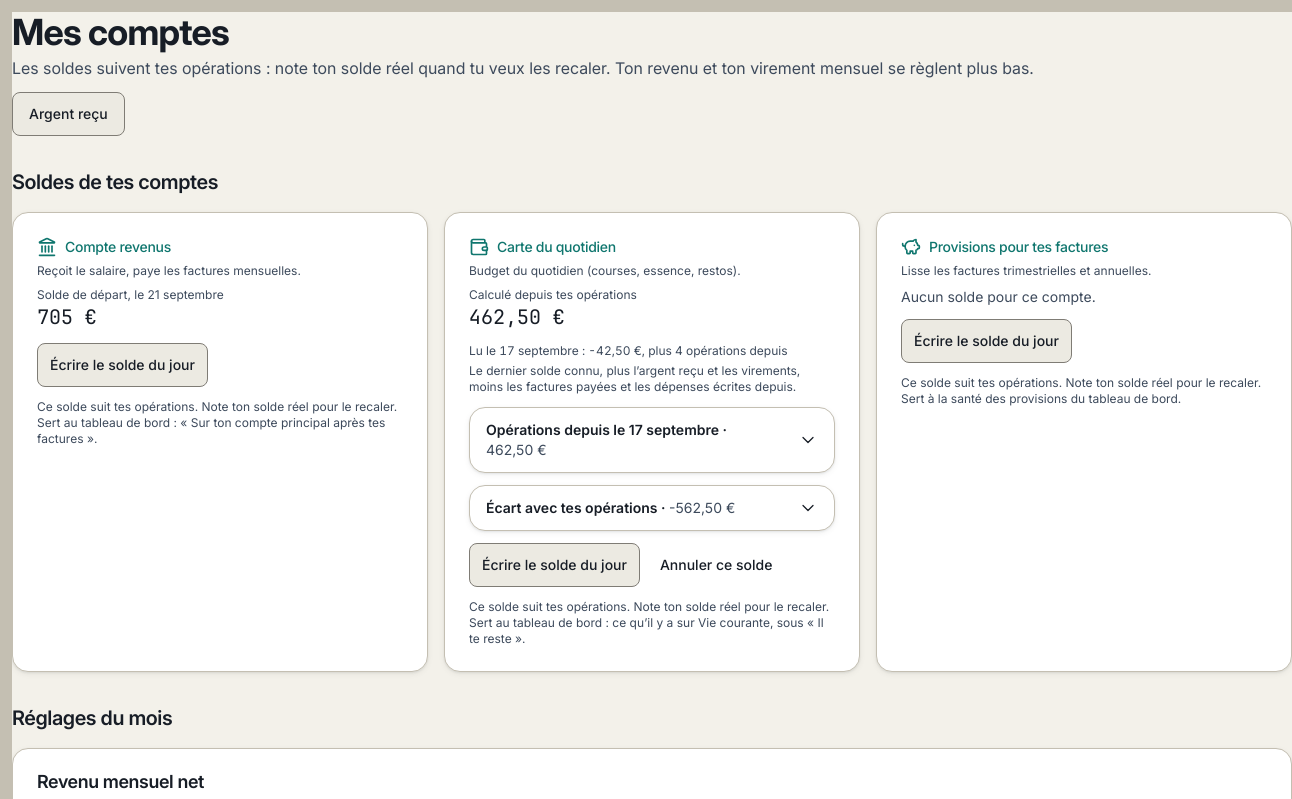
Scenario: AccountsClient — un solde lu, daté, et nommé pour ce qu’il est › tour 59 ter — règle 10 : le solde calculé s’ouvre sur chaque opération depuis le relevé
Click the button "Opérations depuis le 17 septembre · 462,50 €" at (652, 440), box [470,408,834,472]
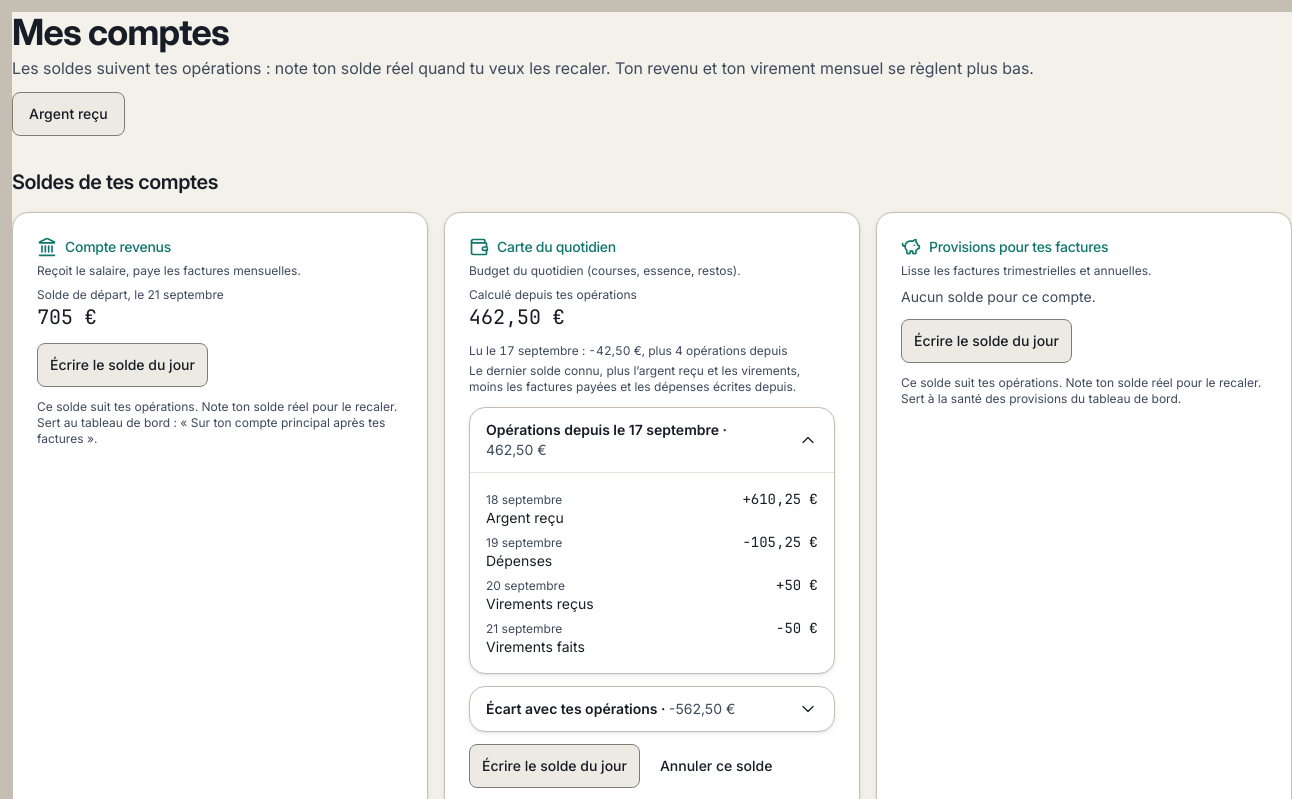
Result: the button "Opérations depuis le 17 septembre · 462,50 €" is expanded at [470,408,834,472]
